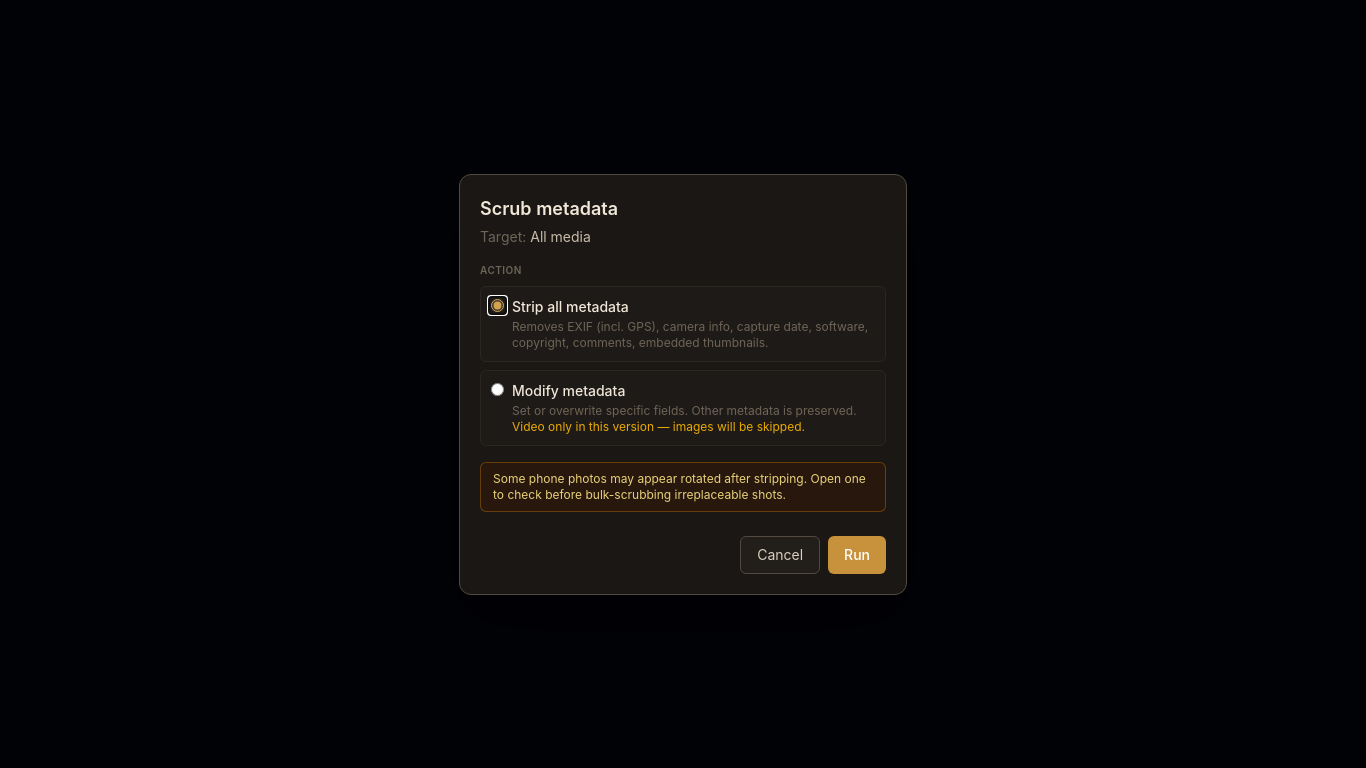
Test: ScrubMetadataModal › switching to Modify shows field editor and Run is disabled until a field has a value
Step 1. Click the radio button labelled "Modify metadata" → (498, 389), box [491,382,504,396]
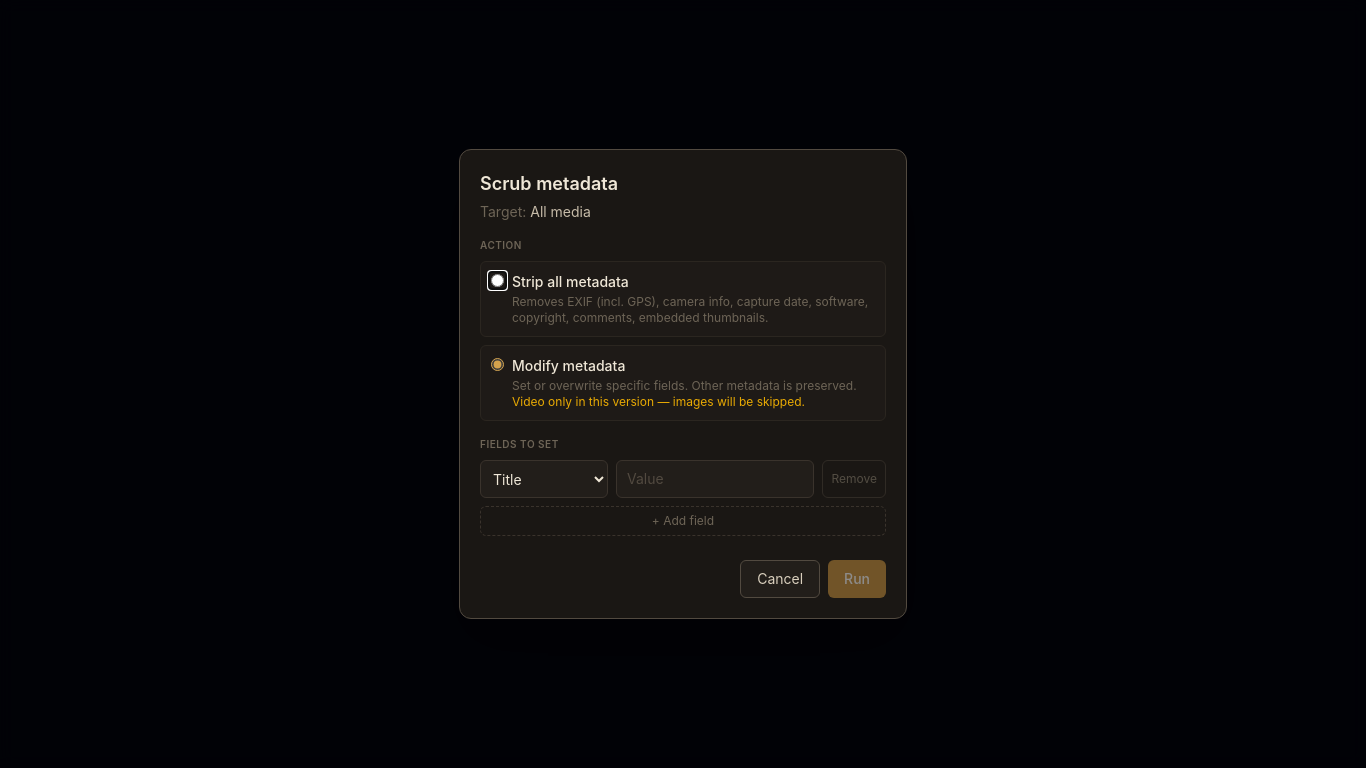
Expected: the text "Fields to set" is shown, [480,438,559,450]
Expected: the button "Run" is disabled, [828,560,886,598]
Step 2. Type "My Title" into the field with placeholder "Value" → (715, 479), box [616,460,814,498]
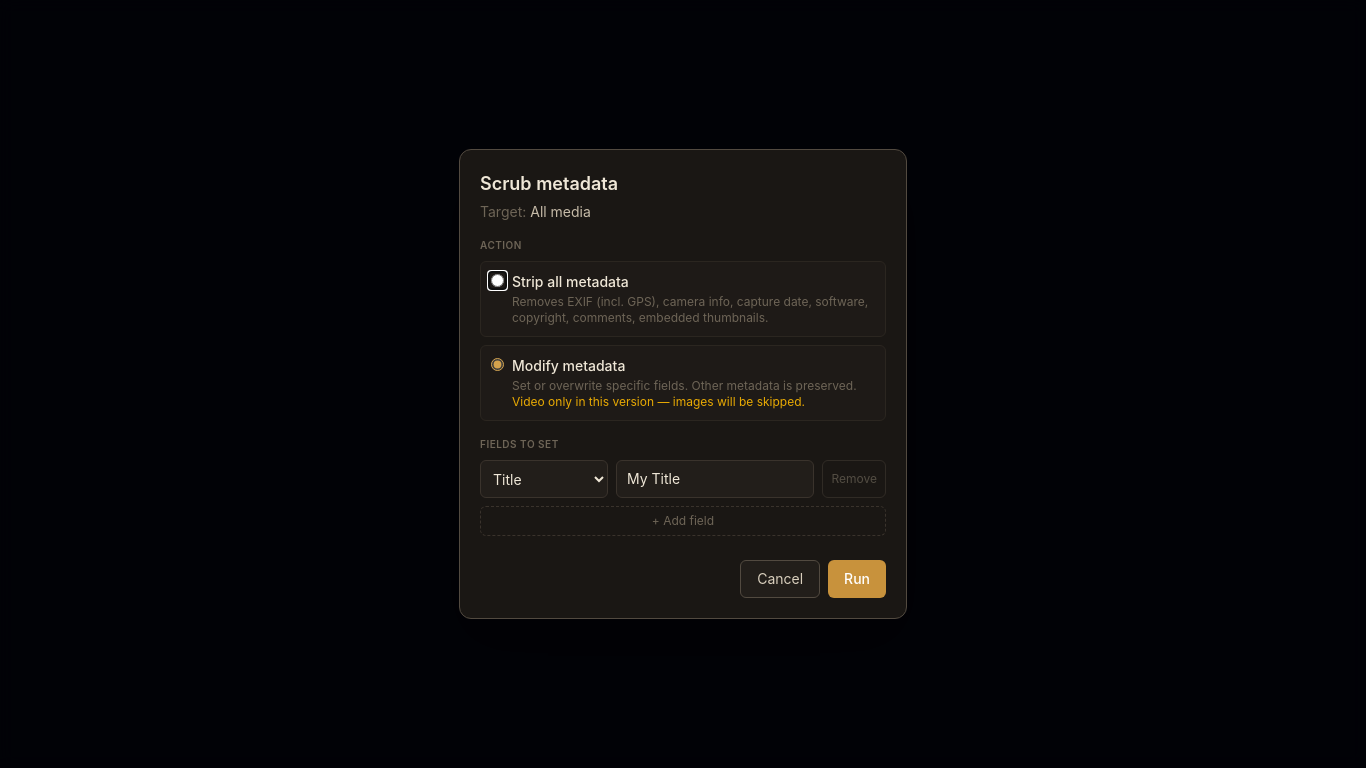
Expected: the button "Run" is enabled, [828,560,886,598]
